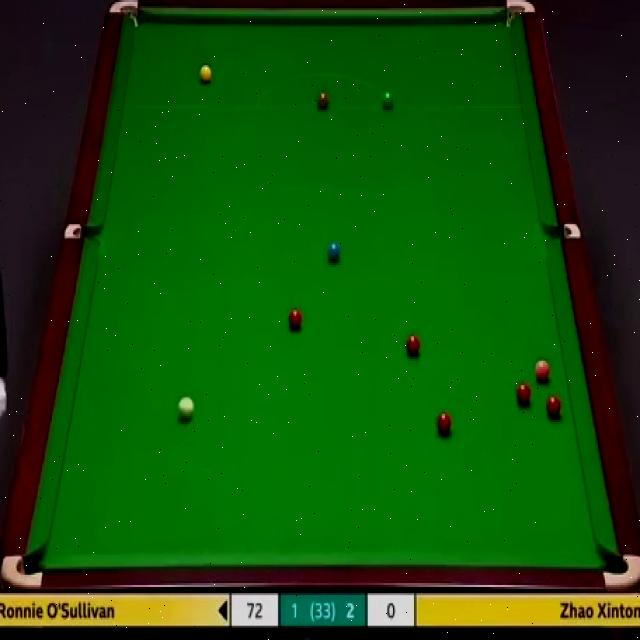blue-ball: (328, 241, 340, 264)
brown-ball: (317, 92, 330, 110)
green-ball: (382, 90, 394, 110)
pink-ball: (534, 358, 552, 383)
red-ball: (435, 411, 452, 436), (406, 331, 421, 356), (545, 397, 562, 418), (516, 383, 531, 405), (289, 308, 302, 331)
white-ball: (177, 394, 196, 422)
yellow-ball: (199, 65, 213, 86)
